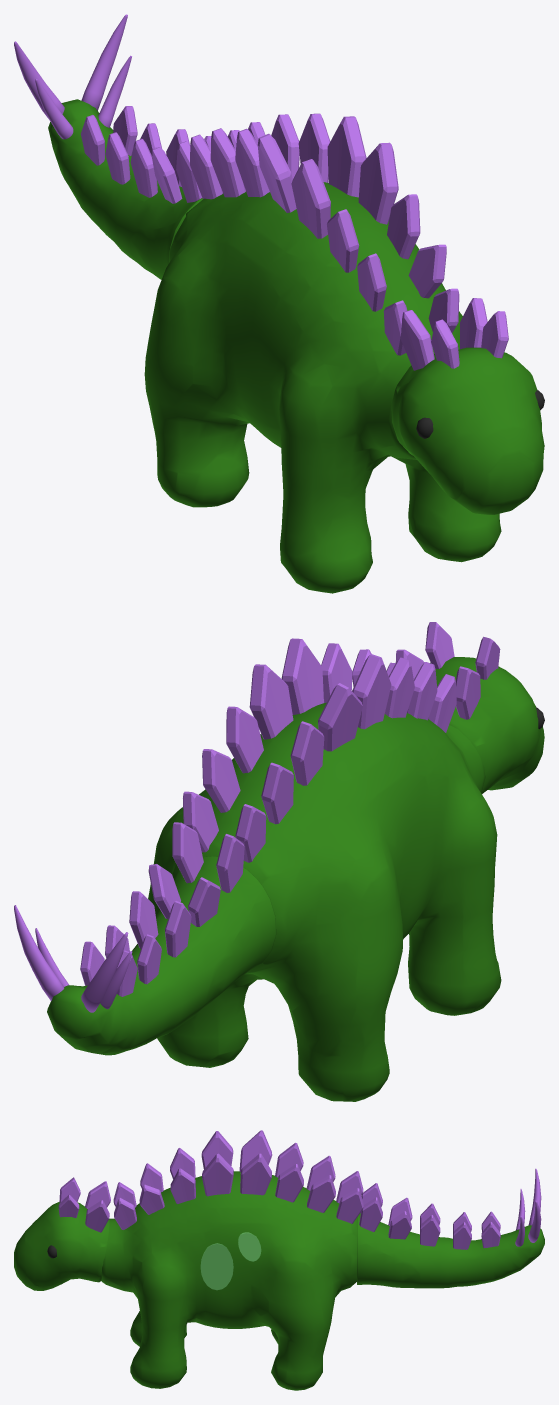
The model's file is dino.fbx.
The picture shows the model from 3 angles, top to bottom: view 1: azimuth 30°, elevation 25°; view 2: azimuth 150°, elevation 25°; view 3: azimuth 270°, elevation 25°; orthographic projection. The views are drawn at different scales.
Visible parts, largest first — view 1: Dino Body, Dino Head, Dino Tail; view 2: Dino Body, Dino Tail, Dino Head; view 3: Dino Body, Dino Tail, Dino Head.
Part boxes in pixels (box(x1,y1,x2,y2)): Dino Body: box(144, 113, 501, 593); Dino Head: box(391, 298, 544, 514); Dino Tail: box(14, 14, 239, 279); Dino Body: box(148, 638, 501, 1101); Dino Tail: box(14, 822, 276, 1055); Dino Head: box(395, 622, 544, 793); Dino Body: box(101, 1130, 363, 1390); Dino Tail: box(357, 1168, 544, 1288); Dino Head: box(14, 1177, 110, 1290).
Bounding box in the file's own units: 8.39 × 27.38 × 12.83.
